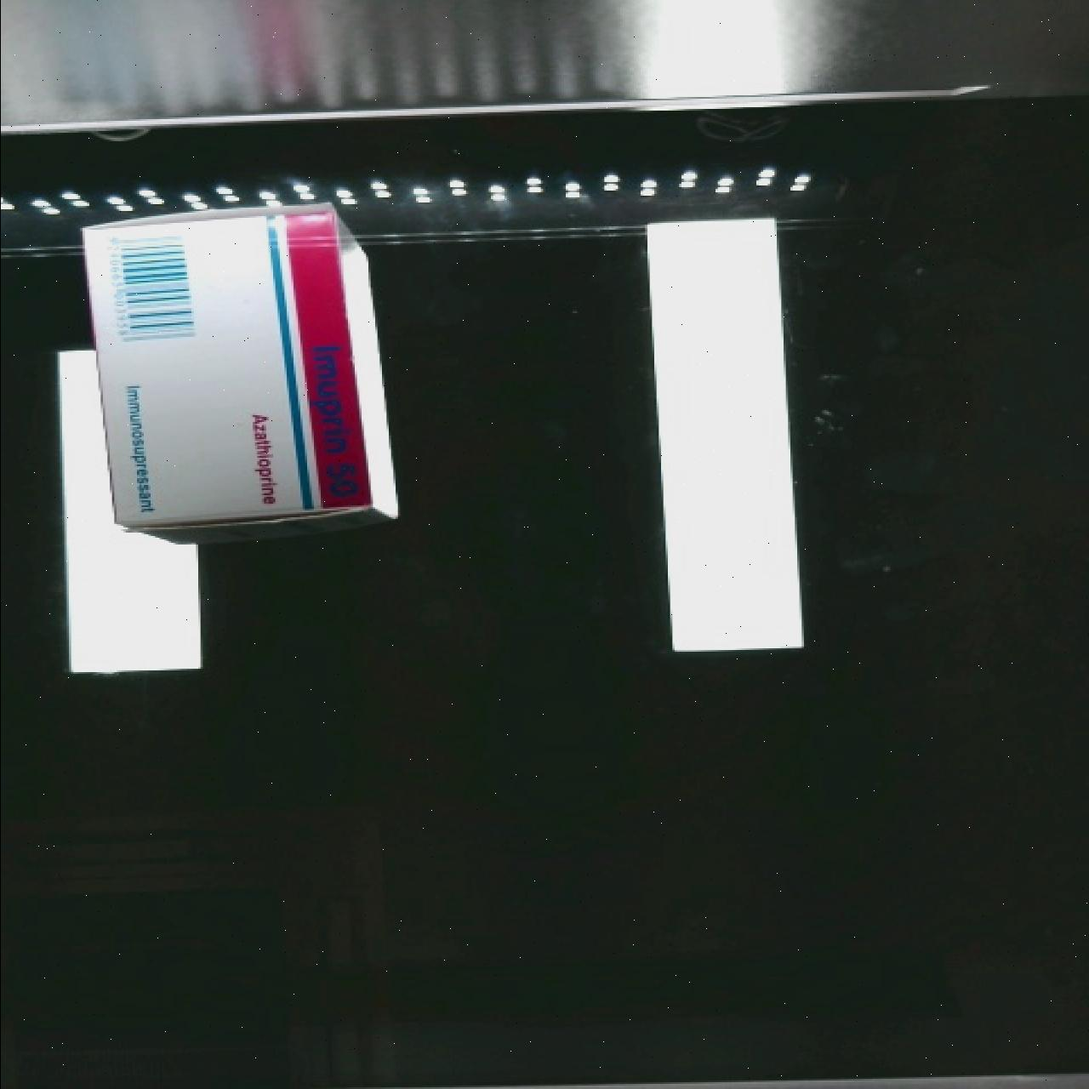medicine_label_obb: (283, 326, 370, 516)
